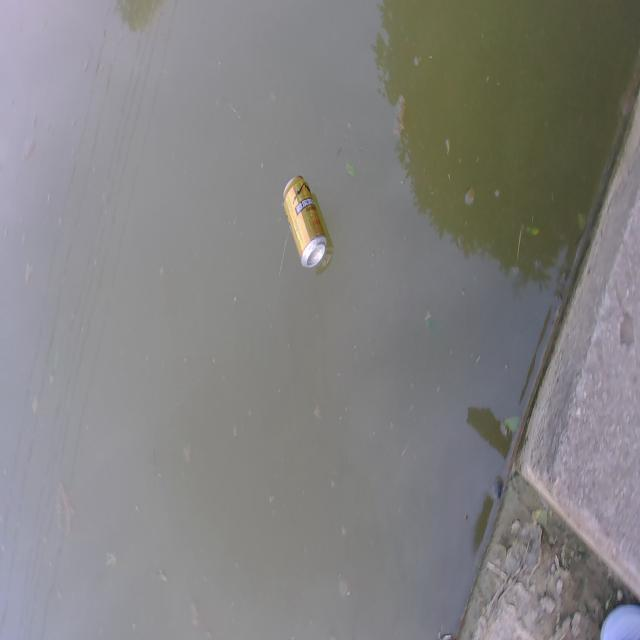Can: (279, 172, 329, 270)
